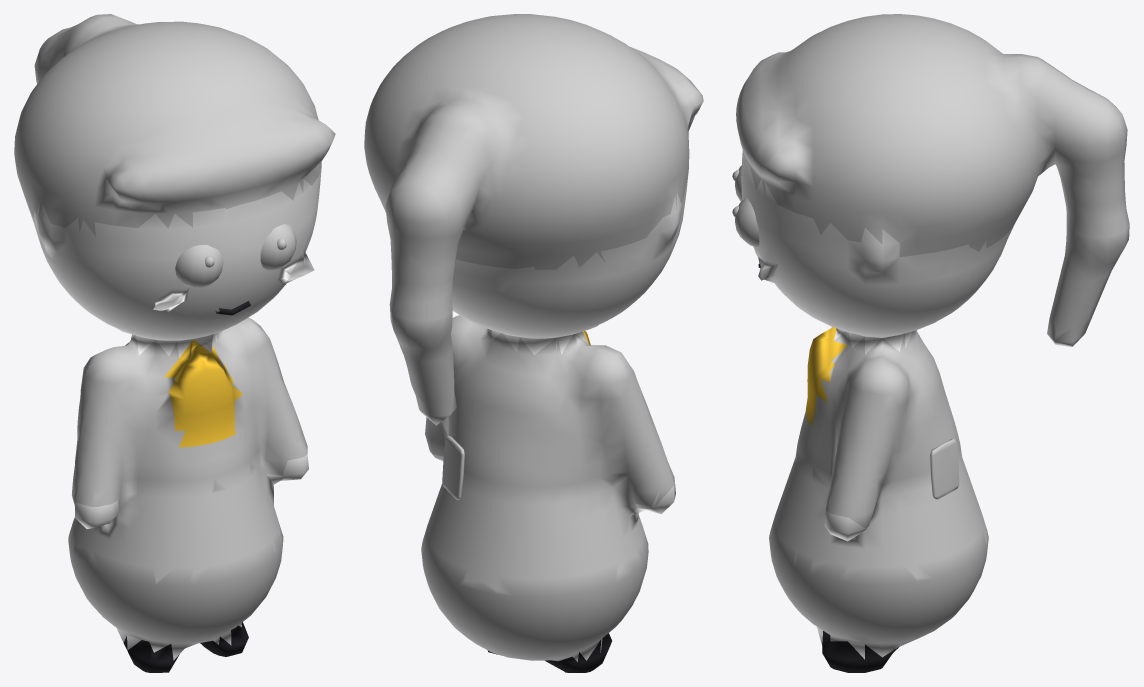
File: idol_girl_d.fbx
3 renders of one model, left to right at view 1: azimuth 30°, elevation 25°; view 2: azimuth 150°, elevation 25°; view 3: azimuth 270°, elevation 25°, orthographic. The views are drawn at different scales.
Parts seen in each view (by area): view 1: idol_girl_d; view 2: idol_girl_d; view 3: idol_girl_d.
Part boxes in pixels (x1,y1,x2,y2): idol_girl_d: (14, 14, 335, 672); idol_girl_d: (364, 14, 703, 672); idol_girl_d: (732, 14, 1129, 672).
Size of the model in its own units: 0.5796 by 1.24 by 0.7227.
